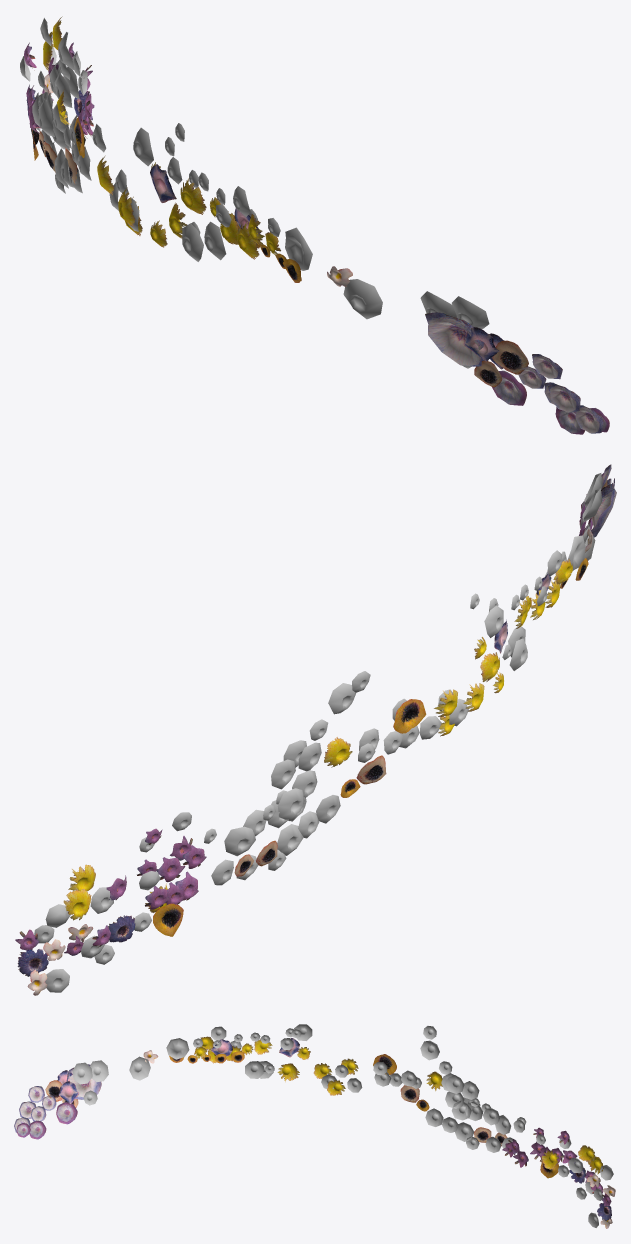
File: Left_Flower7.fbx
3 renders of one model, top to bottom at view 1: azimuth 30°, elevation 25°; view 2: azimuth 150°, elevation 25°; view 3: azimuth 270°, elevation 25°, orthographic. The views are drawn at different scales.
Parts seen in each view (by area): view 1: Circle.1316, Circle.1319, Circle.1305, Circle.1295, Circle.1318, Circle.1321, Circle.1303, Circle.1315, Circle.1130, Circle.1293, Circle.1314, Circle.1282; view 2: Circle.1157, Circle.810; view 3: Circle.1316, Circle.1319, Circle.1318, Circle.1295, Circle.1321, Circle.1320, Circle.1304, Circle.1126.
Part boxes in pixels (box(x1,y1,x2,y2)): Circle.1316: box(425, 312, 484, 366); Circle.1319: box(343, 279, 382, 319); Circle.1305: box(492, 340, 528, 374); Circle.1295: box(285, 227, 312, 270); Circle.1318: box(492, 370, 526, 405); Circle.1321: box(451, 296, 489, 328); Circle.1303: box(463, 327, 499, 361); Circle.1315: box(548, 384, 580, 412); Circle.1130: box(182, 223, 203, 261); Circle.1293: box(150, 164, 176, 202); Circle.1314: box(575, 405, 604, 433); Circle.1282: box(180, 178, 206, 214); Circle.1157: box(393, 699, 426, 733); Circle.810: box(153, 903, 183, 936); Circle.1316: box(66, 1064, 101, 1099); Circle.1319: box(129, 1056, 150, 1080); Circle.1318: box(56, 1102, 77, 1124); Circle.1295: box(166, 1038, 189, 1059); Circle.1321: box(72, 1062, 92, 1084); Circle.1320: box(88, 1060, 108, 1081); Circle.1304: box(59, 1081, 79, 1104); Circle.1126: box(420, 1040, 439, 1060).
Size of the model in its own units: 117 by 130 by 463.
